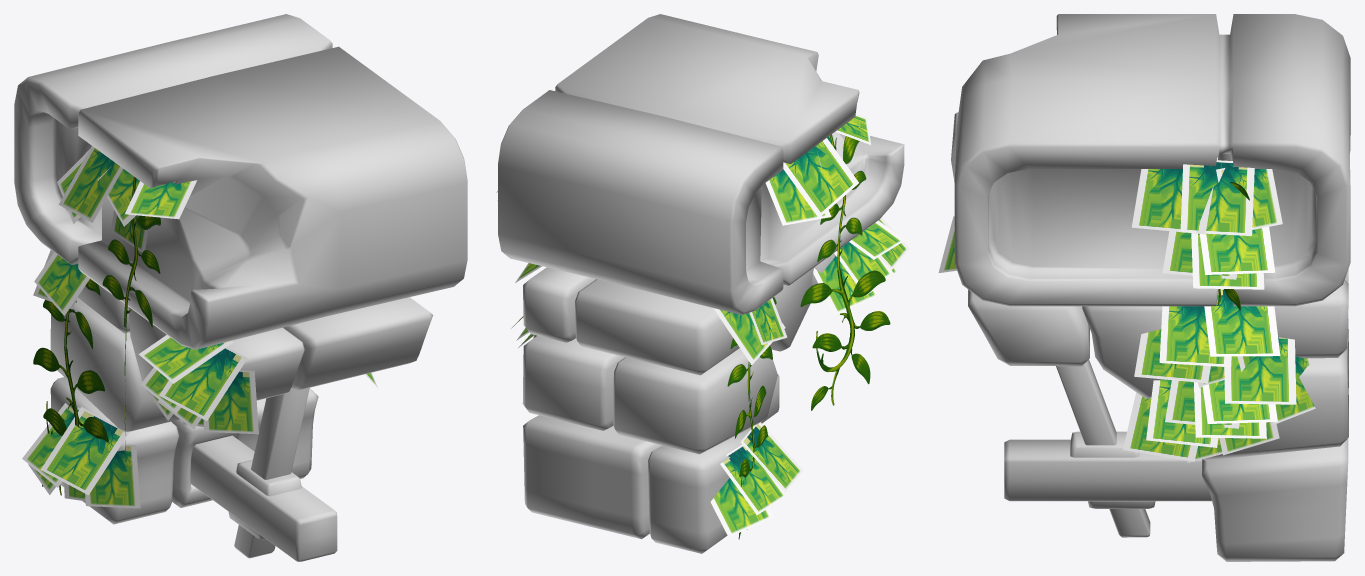
The model's file is SM_WallDecoration.fbx.
The picture shows the model from 3 angles, left to right: view 1: azimuth 30°, elevation 25°; view 2: azimuth 150°, elevation 25°; view 3: azimuth 270°, elevation 25°; orthographic projection. The views are drawn at different scales.
Visible parts, largest first — view 1: WallDecoration1Mesh; view 2: WallDecoration1Mesh; view 3: WallDecoration1Mesh.
Part boxes in pixels (bbox=[...]): WallDecoration1Mesh: bbox=[14, 14, 467, 561]; WallDecoration1Mesh: bbox=[496, 14, 909, 553]; WallDecoration1Mesh: bbox=[938, 14, 1350, 561].
Bounding box in the file's own units: 272 × 335 × 277.
